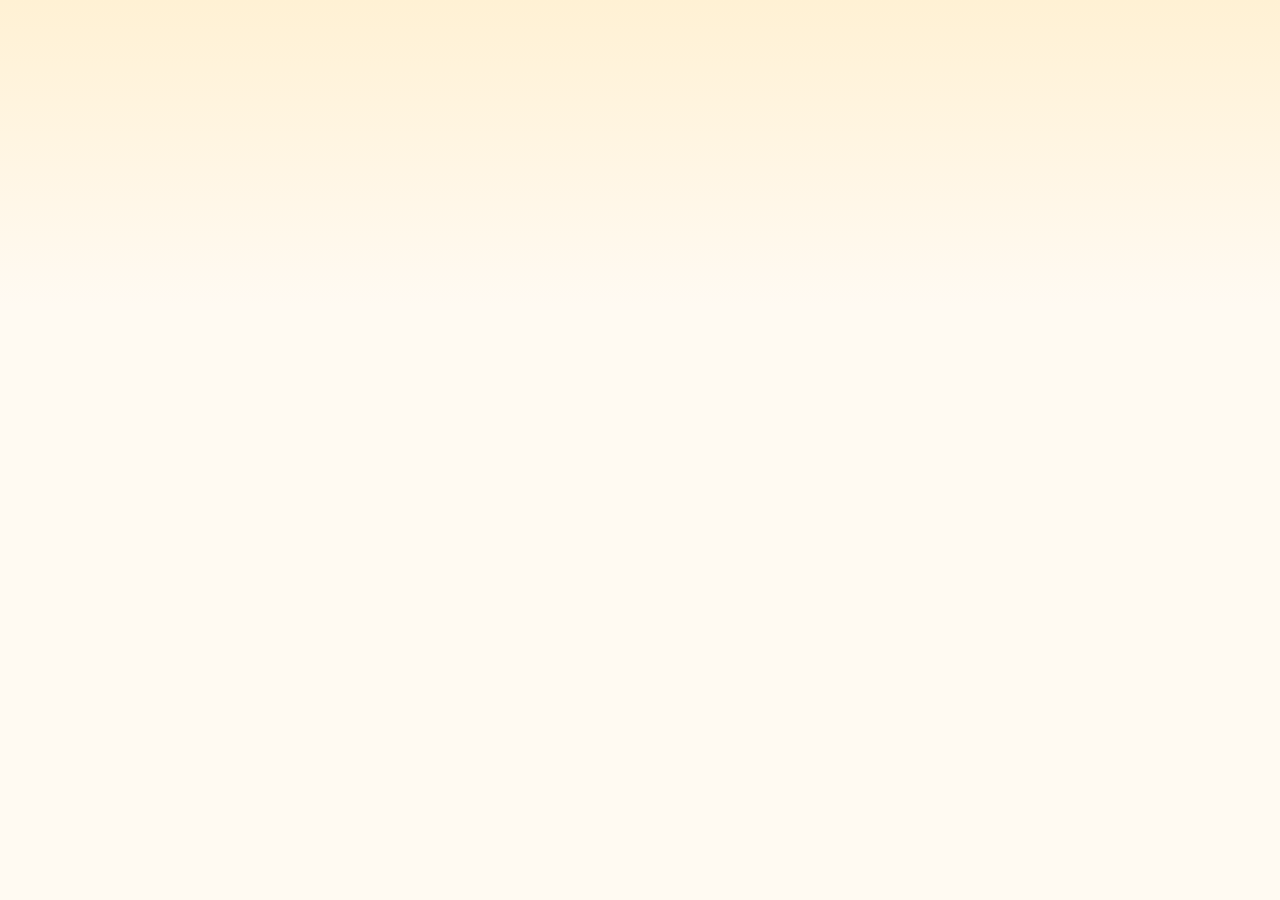
Test: CommandPalette › opens with Ctrl+K, filters, and navigates with Enter
The image size is (1280, 900).
Later steps or results of the test are not shown.
Type keys "{Control>}k{/Control}"
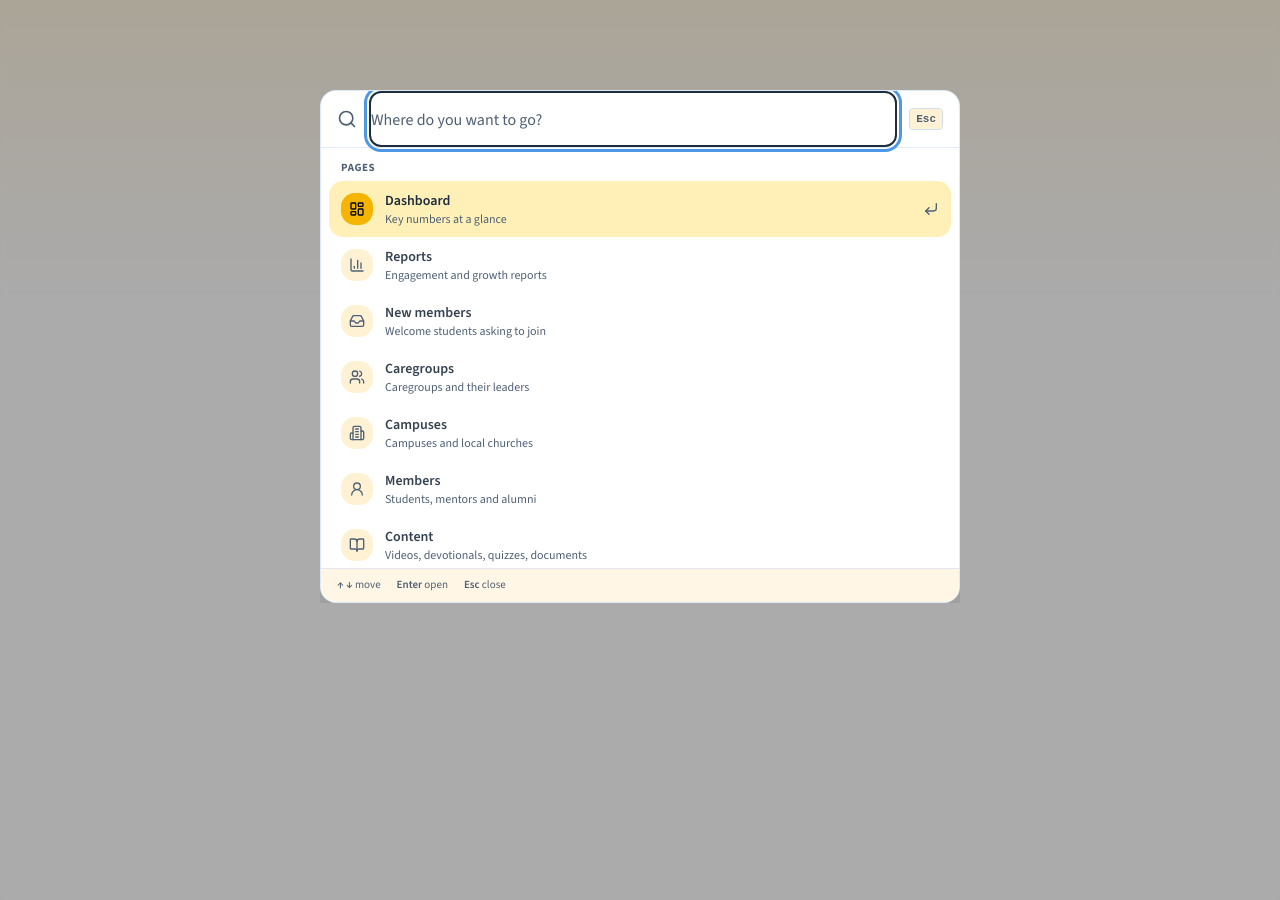
Type "instit" into the dropdown named "search pages and actions".
click(633, 119); type("instit")  # box [369,91,897,147]
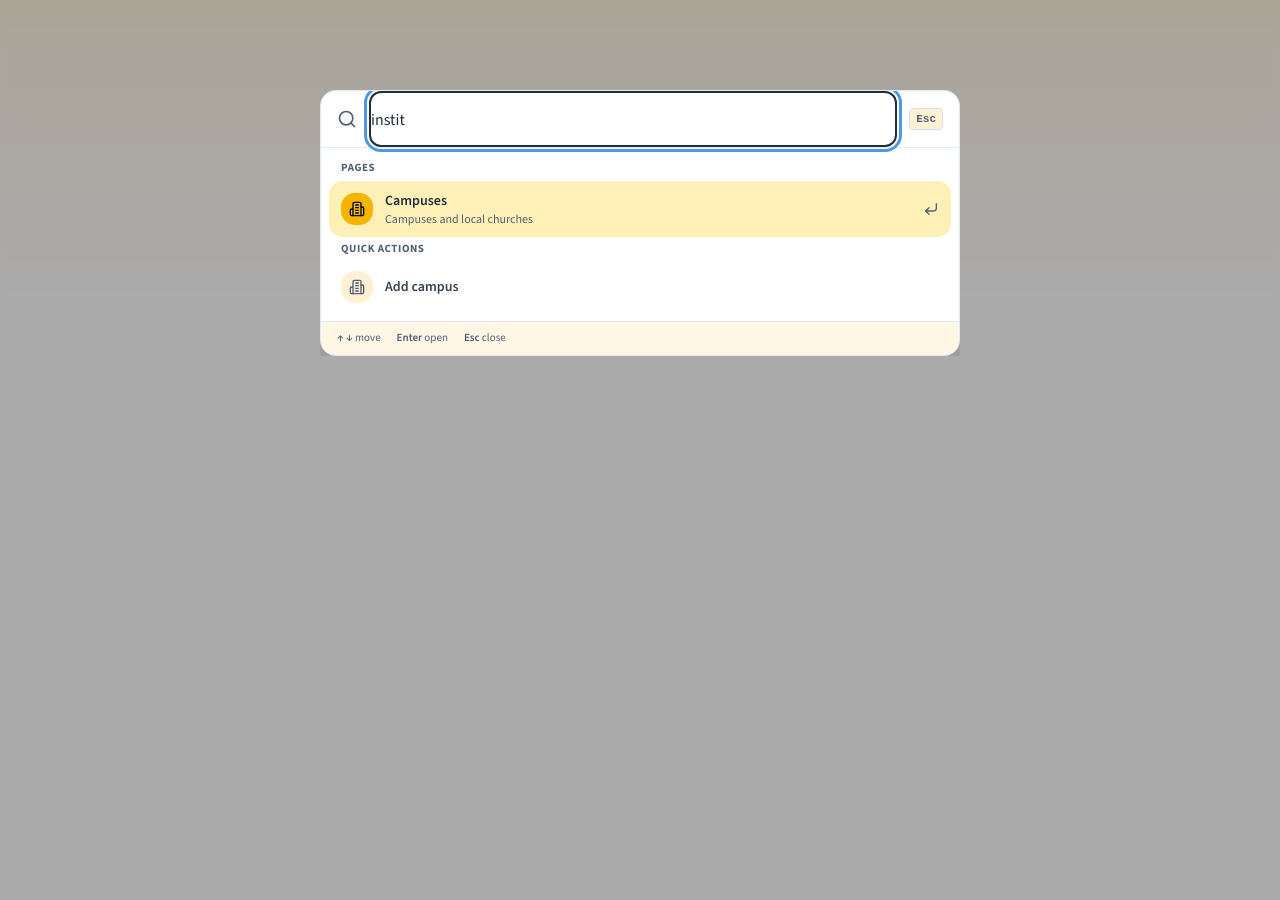
Check: the option "Campuses Campuses and local churches" is shown, box [329,180,951,236]
Press Arrowdown
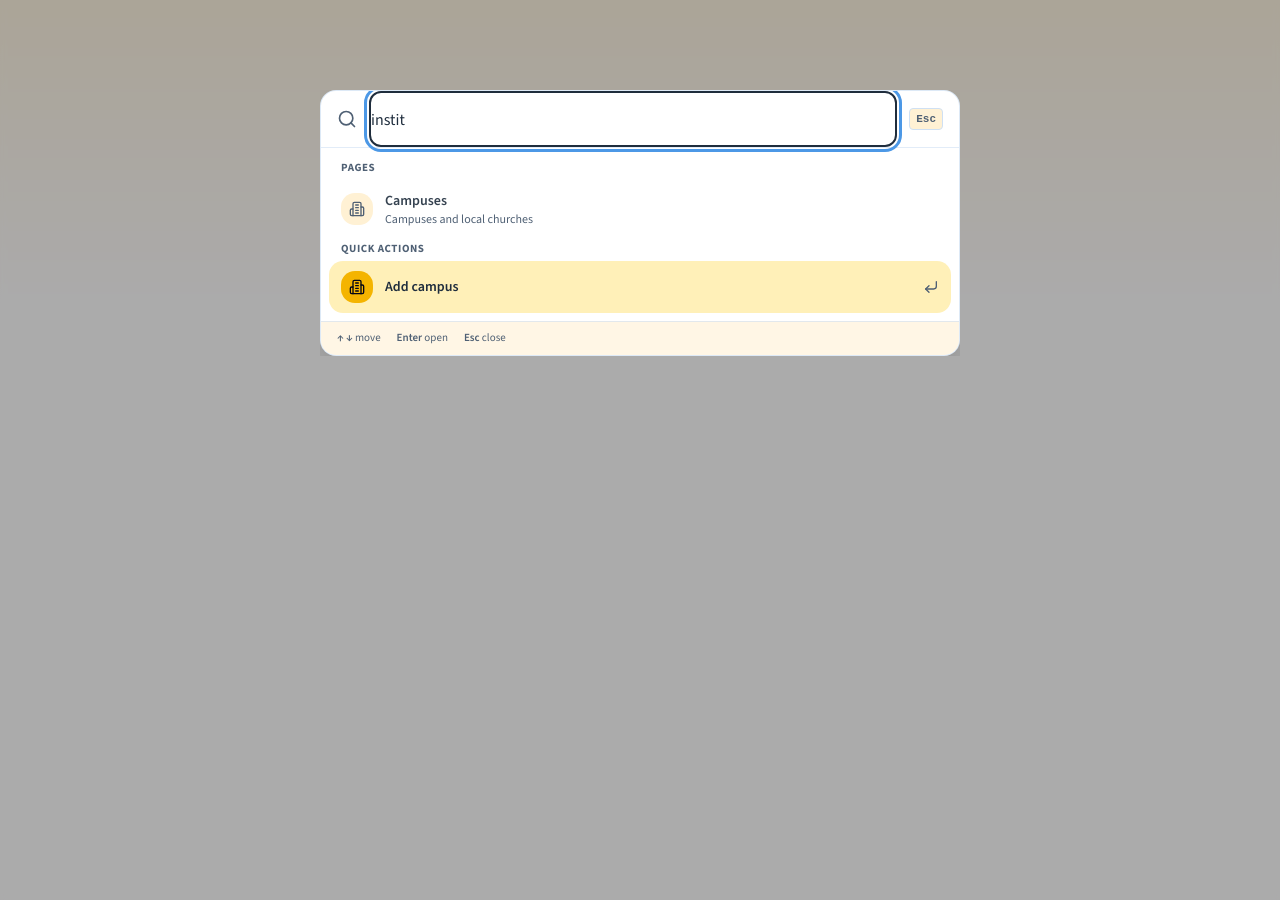
Check: the option "Add campus" is shown, box [329,261,951,313]
